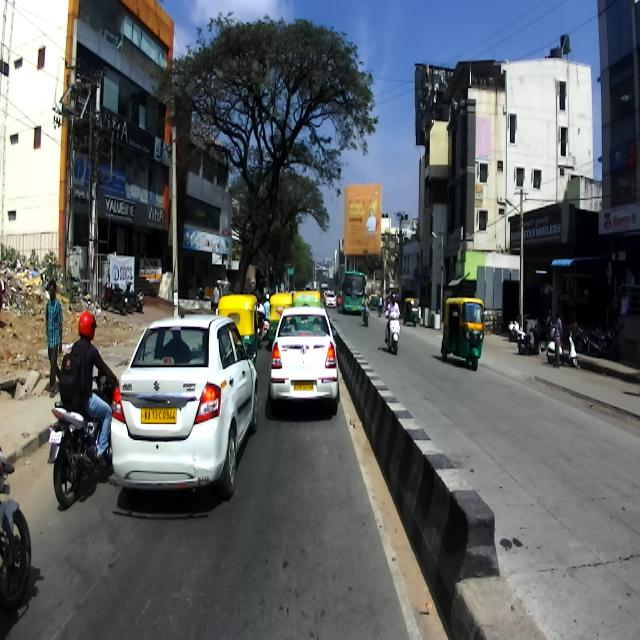car ahead at: (112, 317, 258, 502), (268, 306, 342, 424)
motorcycle ahead at: (46, 369, 113, 504)
